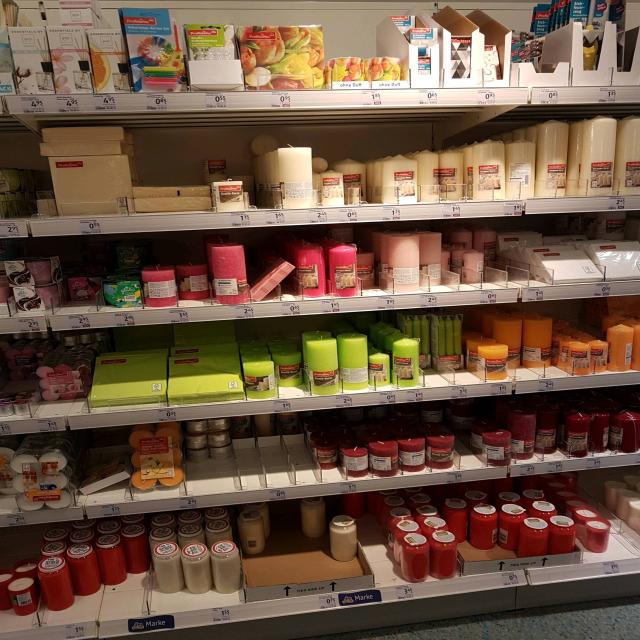empty: (243, 426, 316, 497)
